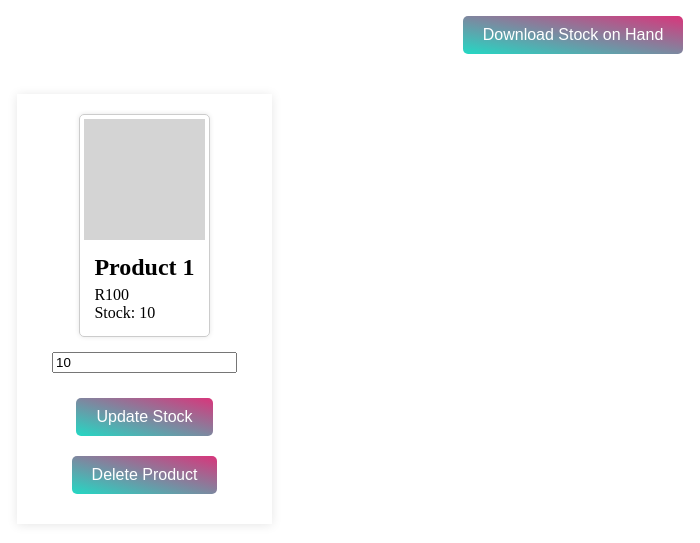
Test: SellerProducts Component › deletes product when "Delete Product" button is clicked
Expected: the heading "Product 1" is shown, [94,254,195,280]
Click the button "Delete Product" at (144, 475), box [72,456,217,494]
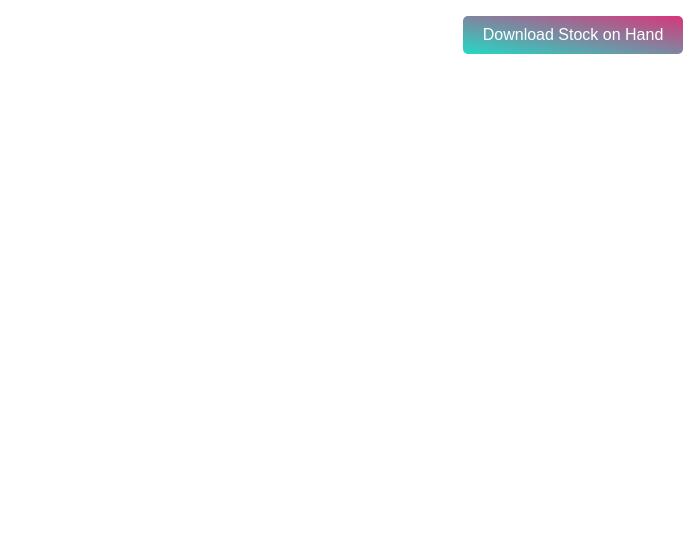
Expected: the heading "Product 1" is gone
